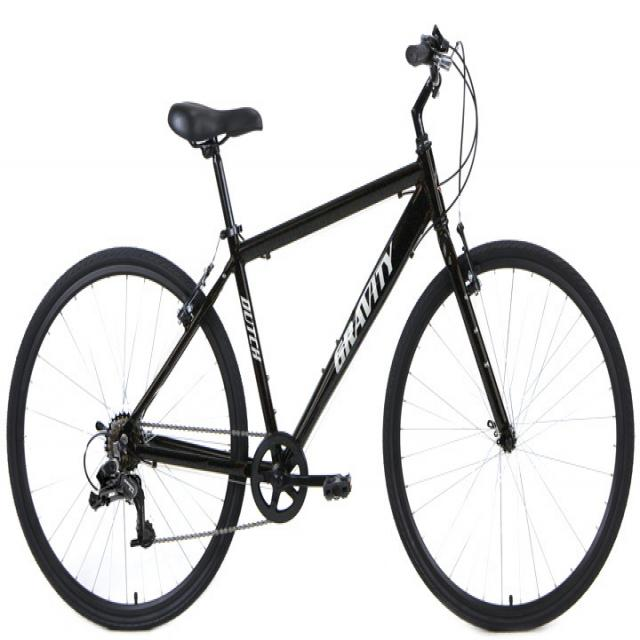bicycle: (8, 19, 622, 634)
